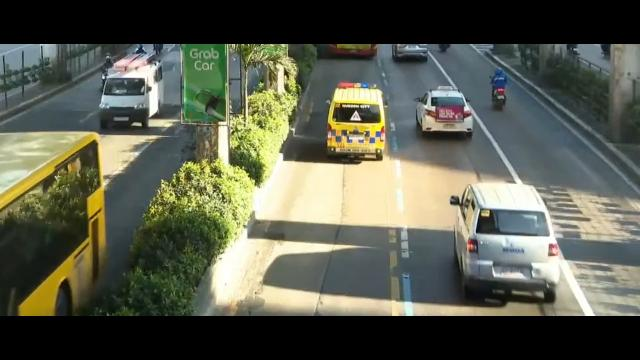bus: (0, 119, 112, 318)
car: (449, 181, 566, 297), (414, 87, 476, 138)
motorcycle: (490, 67, 508, 111), (99, 53, 119, 91)
van: (322, 83, 389, 164), (101, 57, 164, 130)
